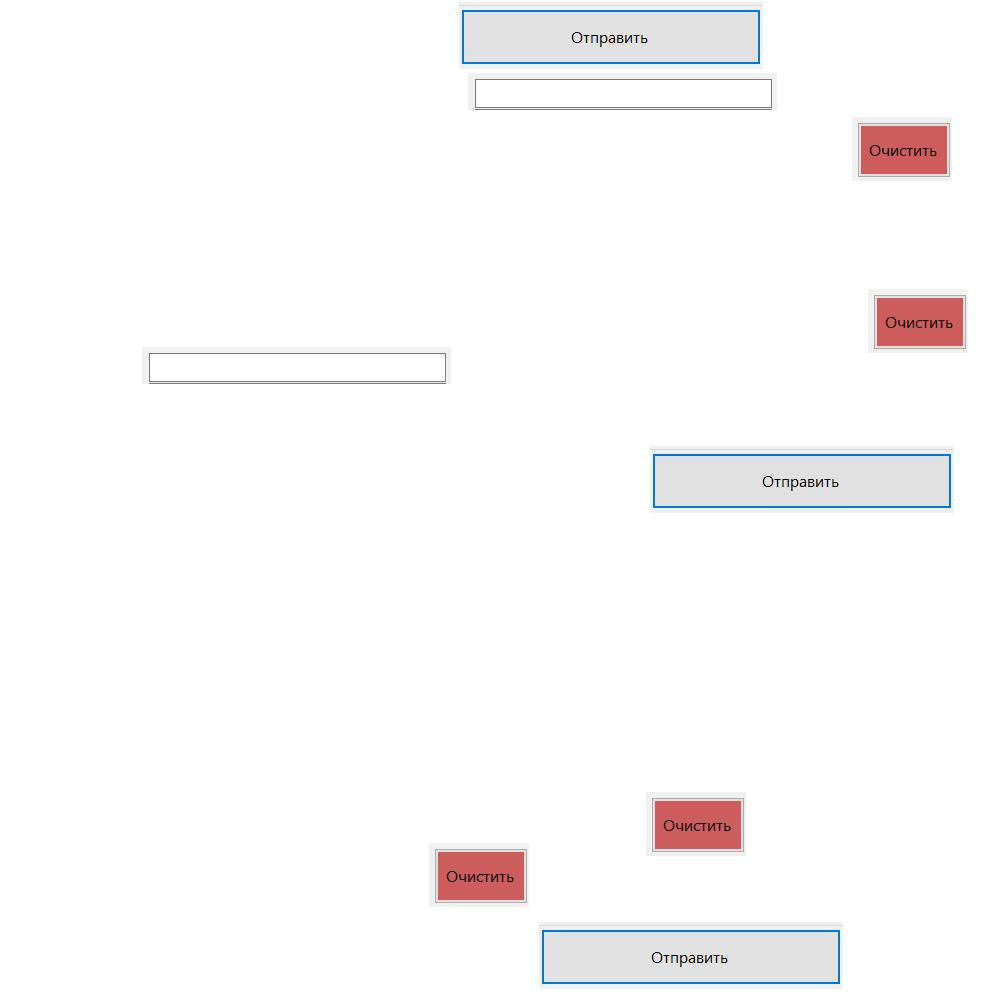Button: (650, 446, 954, 513), (459, 2, 763, 69), (539, 922, 843, 989), (868, 289, 968, 353), (646, 792, 746, 856), (852, 117, 952, 181), (429, 843, 529, 907)
EditText-: (142, 347, 451, 384), (468, 73, 777, 110)
